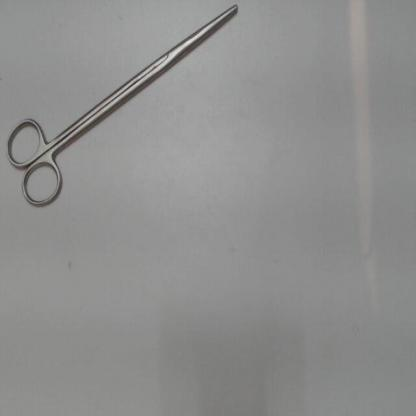9 Metzenbaum Scissors: (2, 1, 244, 216)
